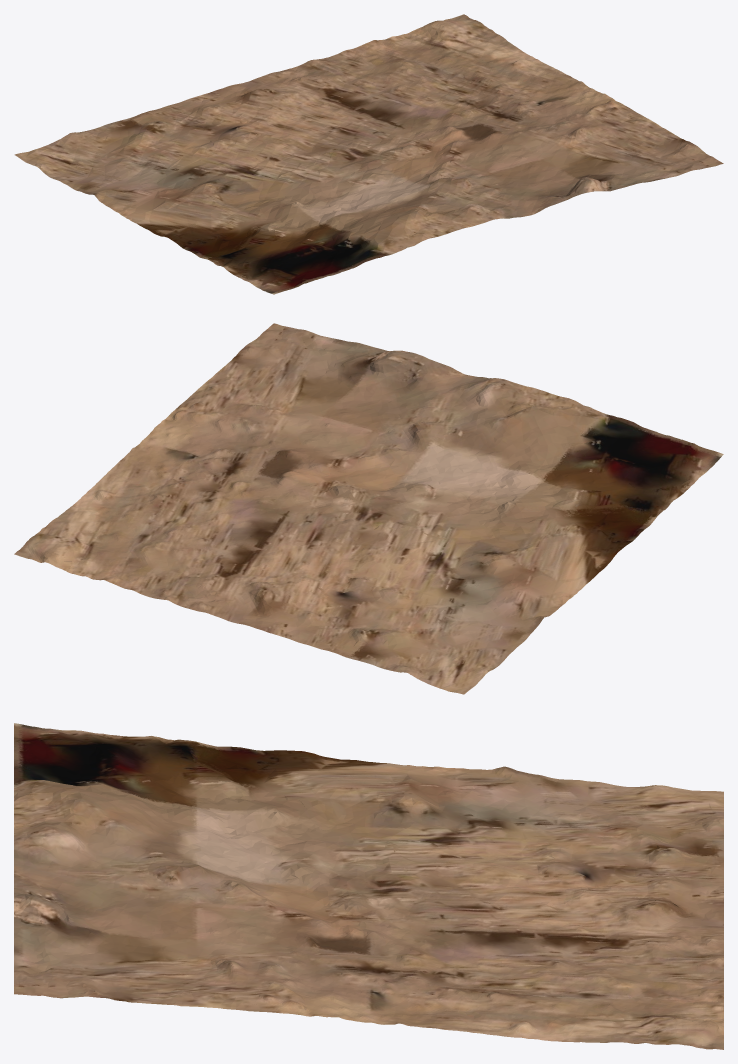
3 views of the same model, one above another, from view 1: azimuth 30°, elevation 25°; view 2: azimuth 150°, elevation 25°; view 3: azimuth 270°, elevation 25° (orthographic). The views are drawn at different scales.
Size of the model in its own units: 4.18 by 0.7124 by 4.18.
Materials: 3 (3 with a texture image).
